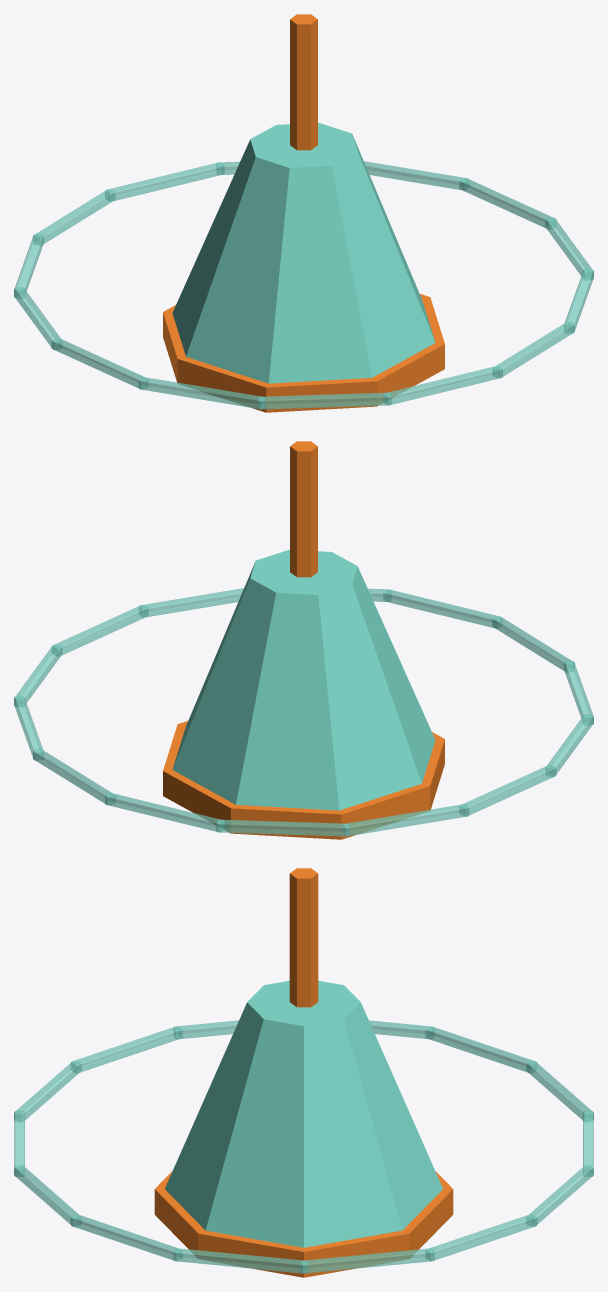
File: cleanse_bell.glb
The picture shows the model from 3 angles, top to bottom: view 1: azimuth 30°, elevation 25°; view 2: azimuth 150°, elevation 25°; view 3: azimuth 270°, elevation 25°; orthographic projection. The views are drawn at different scales.
Visible parts, largest first — view 1: bell, bell_rim, hanger, chime_wave_4, chime_wave_5, chime_wave_10, chime_wave_3, chime_wave_6, chime_wave_13, chime_wave_12, chime_wave_9, chime_wave_2 (+4 smaller); view 2: bell, bell_rim, hanger, chime_wave_9, chime_wave_8, chime_wave_3, chime_wave_10, chime_wave_7, chime_wave_0, chime_wave_1, chime_wave_4, chime_wave_11 (+4 smaller); view 3: bell, bell_rim, hanger, chime_wave_0, chime_wave_13, chime_wave_5, chime_wave_8, chime_wave_1, chime_wave_12, chime_wave_9, chime_wave_4, chime_wave_11 (+5 smaller).
Part boxes in pixels (x1,y1,x2,y2): bell: [172, 122, 435, 383]; bell_rim: [163, 294, 444, 412]; hanger: [290, 14, 317, 150]; chime_wave_4: [258, 392, 391, 409]; chime_wave_5: [139, 377, 265, 409]; chime_wave_10: [105, 162, 224, 201]; chime_wave_3: [383, 365, 502, 405]; chime_wave_6: [51, 338, 148, 389]; chime_wave_13: [459, 178, 556, 229]; chime_wave_12: [364, 161, 468, 190]; chime_wave_9: [33, 189, 115, 245]; chime_wave_2: [492, 321, 574, 378]; bell: [172, 549, 435, 810]; bell_rim: [163, 721, 444, 839]; hanger: [290, 441, 317, 577]; chime_wave_9: [216, 819, 349, 836]; chime_wave_8: [342, 804, 468, 836]; chime_wave_3: [383, 589, 502, 628]; chime_wave_10: [105, 792, 224, 832]; chime_wave_7: [459, 765, 556, 816]; chime_wave_0: [51, 605, 148, 656]; chime_wave_1: [139, 588, 243, 617]; chime_wave_4: [492, 616, 574, 672]; chime_wave_11: [33, 748, 115, 805]; bell: [165, 980, 442, 1247]; bell_rim: [154, 1171, 453, 1277]; hanger: [289, 868, 318, 1007]; chime_wave_0: [173, 1248, 307, 1273]; chime_wave_13: [300, 1248, 434, 1273]; chime_wave_5: [71, 1026, 182, 1073]; chime_wave_8: [425, 1026, 536, 1073]; chime_wave_1: [71, 1214, 182, 1261]; chime_wave_12: [425, 1214, 536, 1261]; chime_wave_9: [526, 1060, 593, 1122]; chime_wave_4: [14, 1060, 81, 1122]; chime_wave_11: [526, 1165, 593, 1226].
Size of the model in its own units: 0.8365 by 0.61 by 0.8161.
